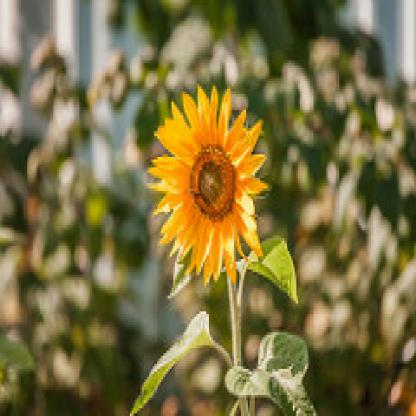SUN FLOWER: (112, 38, 330, 326)
